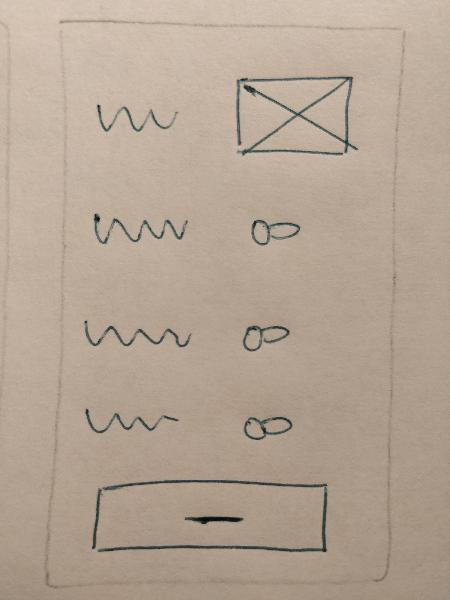button: (86, 472, 334, 562)
image: (226, 68, 361, 167)
switch: (230, 311, 301, 366), (243, 205, 312, 257), (232, 402, 301, 448)
text: (81, 310, 197, 363), (90, 89, 188, 148), (82, 204, 195, 250), (72, 400, 189, 444)
